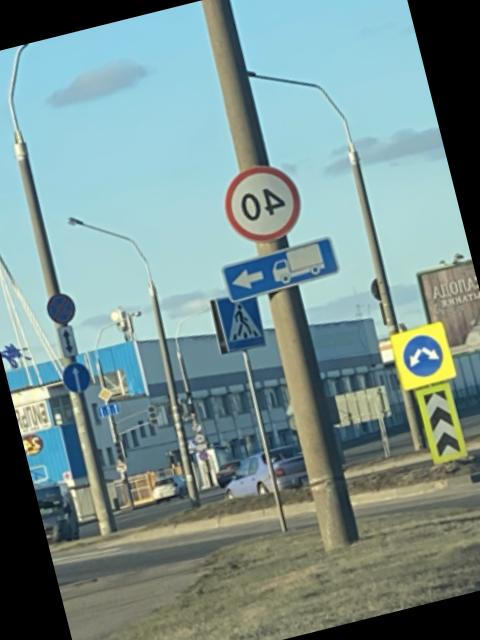crosswalk-sign: (210, 288, 272, 357)
